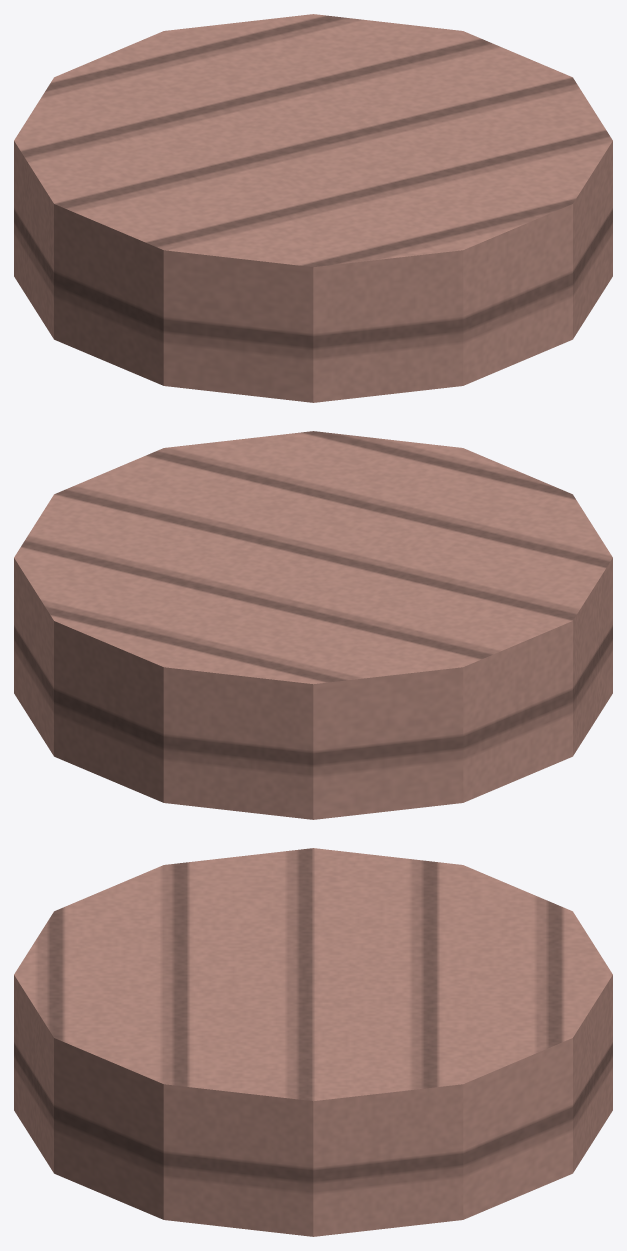
File: wreath_lamppost.glb
The picture shows the model from 3 angles, top to bottom: view 1: azimuth 30°, elevation 25°; view 2: azimuth 150°, elevation 25°; view 3: azimuth 270°, elevation 25°; orthographic projection.
Visible parts, largest first — view 1: wreath_lamppost-col; view 2: wreath_lamppost-col; view 3: wreath_lamppost-col.
Boxes of the visible parts, <box> form: wreath_lamppost-col: <box>14,14,612,402</box>; wreath_lamppost-col: <box>14,431,612,819</box>; wreath_lamppost-col: <box>14,848,612,1236</box>.
Bounding box in the file's own units: 0.6 × 0.15 × 0.6.
1 material, 1 textured.
